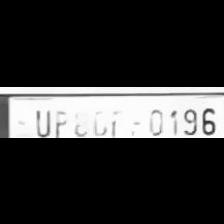0: (144, 105, 164, 135)
1: (164, 106, 180, 136)
6: (198, 104, 218, 134)
9: (178, 106, 198, 134)
P: (51, 107, 69, 136)
U: (30, 106, 50, 136)
